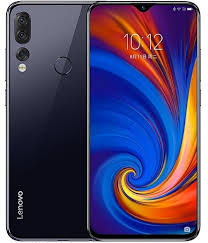lenovo: (87, 1, 201, 240)
